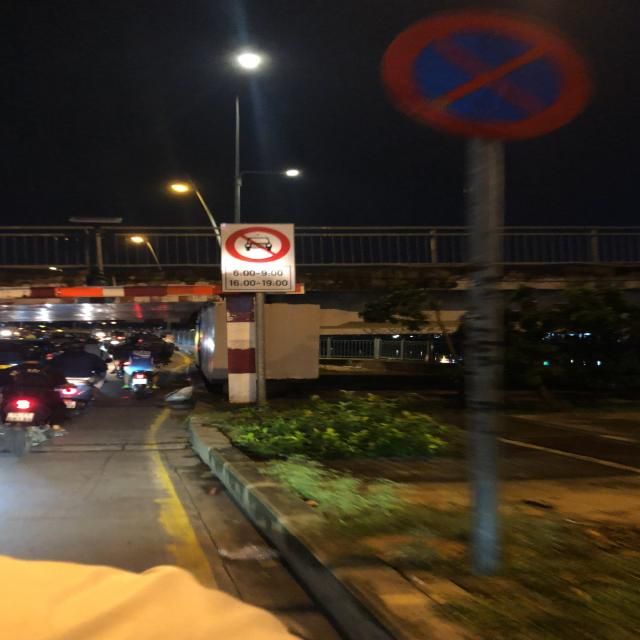Bien bao cam xe oto: (222, 223, 292, 264)
